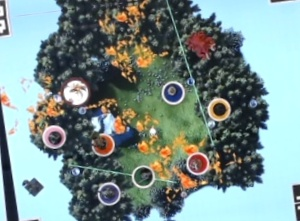blue: (158, 77, 187, 105)
green: (129, 160, 155, 190)
orange: (89, 132, 117, 158)
pink: (38, 121, 67, 151)
red: (183, 148, 212, 176)
violet: (94, 177, 122, 206)
yellow: (204, 92, 233, 121)
